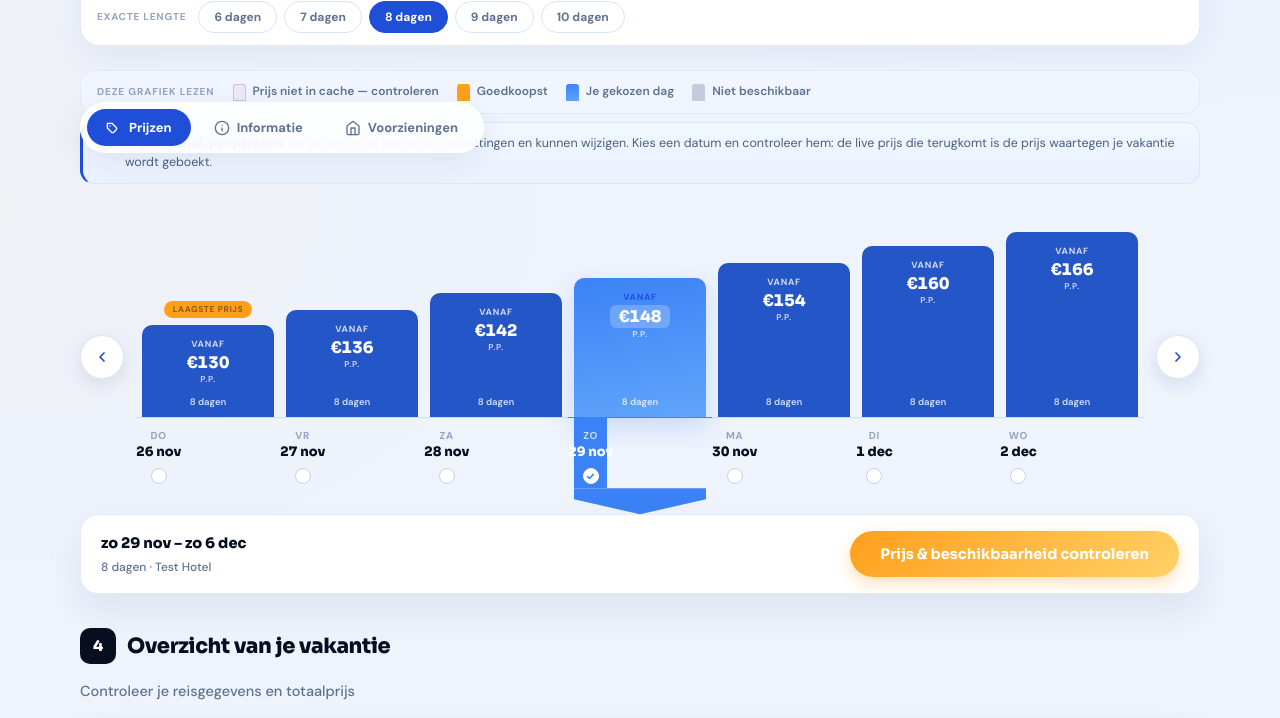
it: rooms the supplier could not price › marks the day as still to be priced rather than confirmed
(page scrolled)
Click the button "Laagste prijs vanaf €130 p.p. 8 dagen do 26 nov" at coordinates (208, 360), box x1=136 y1=206 x2=280 y2=514
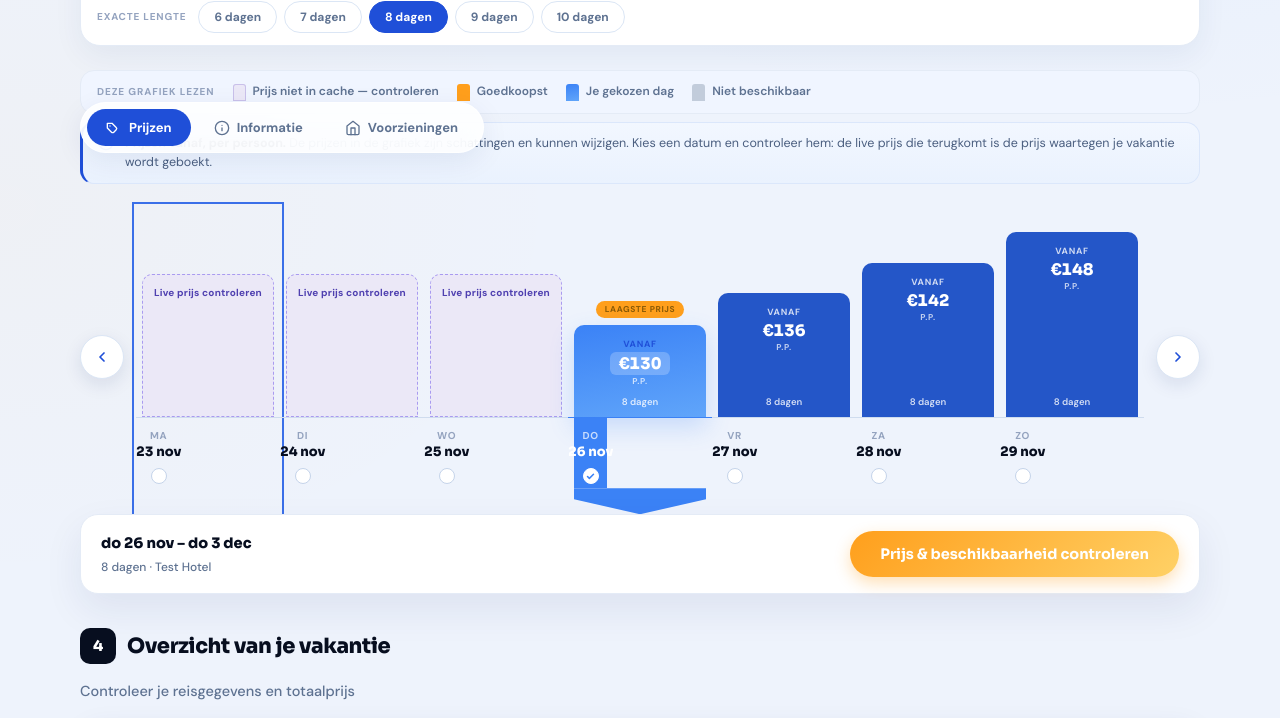
Click the button "Prijs & beschikbaarheid controleren" at coordinates (1015, 554), box x1=850 y1=531 x2=1179 y2=577
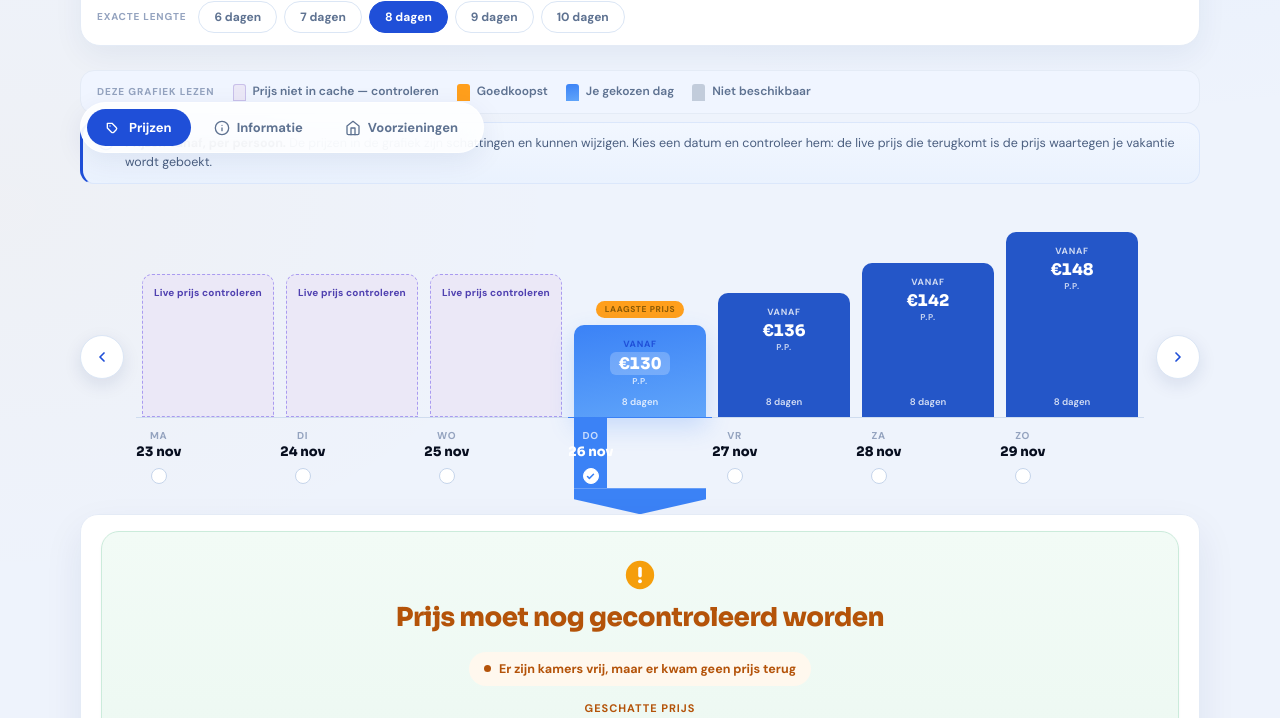
Check: the text "Prijs moet nog gecontroleerd worden" is shown, box x1=396 y1=602 x2=884 y2=634
